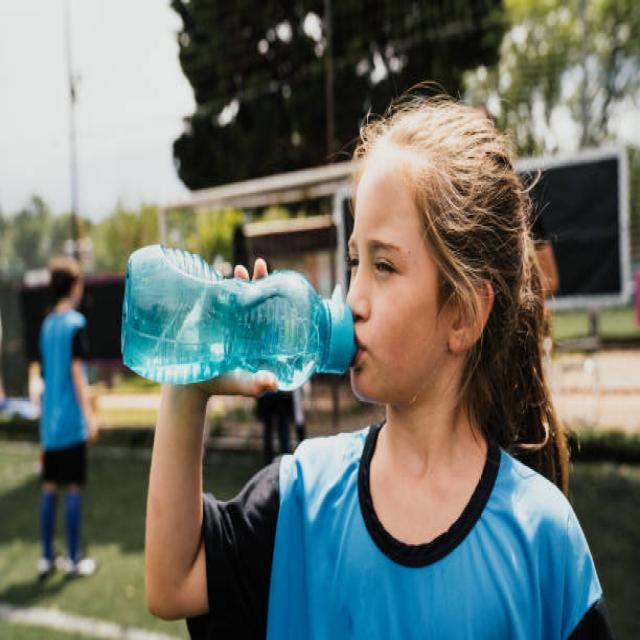blue_bottle: (114, 246, 354, 390)
